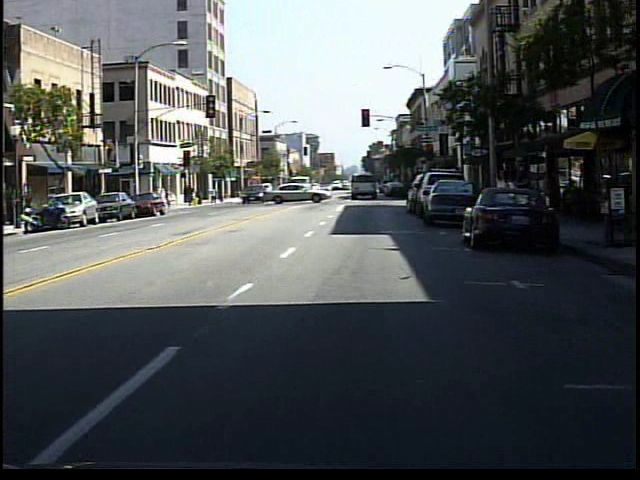person: (510, 154, 537, 238), (496, 164, 517, 231)
